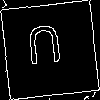U: (24, 24, 65, 74)
